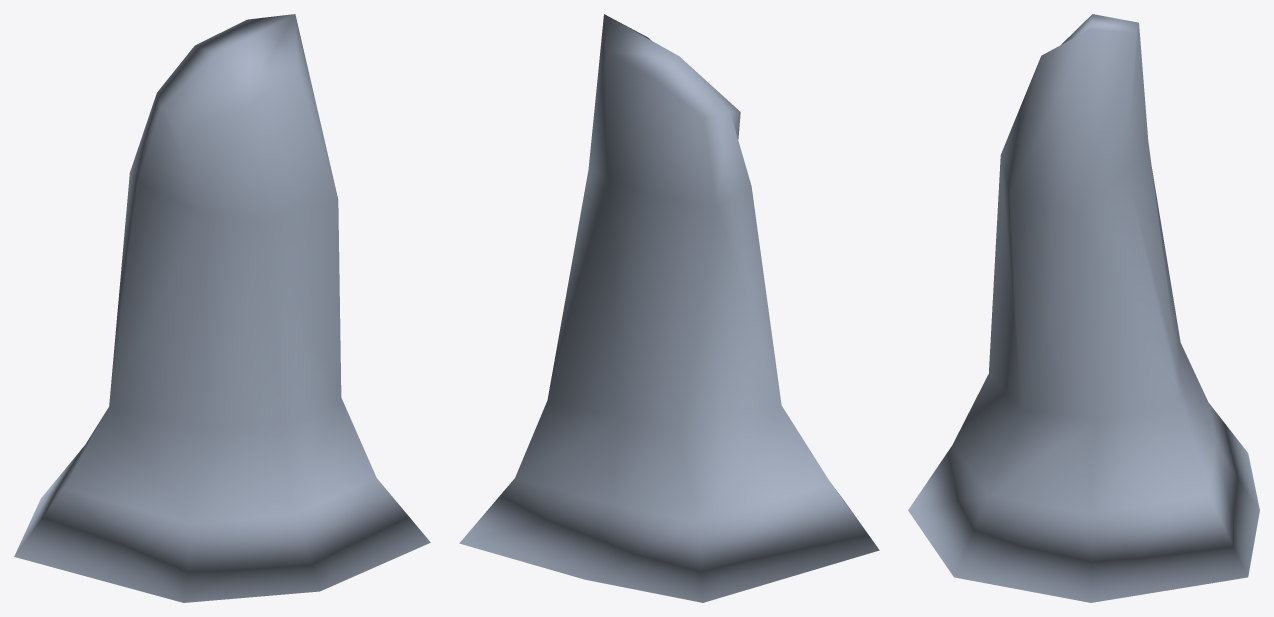
File: S_Stalagmite_03.fbx
The picture shows the model from 3 angles, left to right: view 1: azimuth 30°, elevation 25°; view 2: azimuth 150°, elevation 25°; view 3: azimuth 270°, elevation 25°; orthographic projection. The views are drawn at different scales.
Parts seen in each view (by area): view 1: S_Stalagmite_03; view 2: S_Stalagmite_03; view 3: S_Stalagmite_03.
Boxes of the visible parts, x1,y1,x2,y2 form: S_Stalagmite_03: [14, 14, 430, 602]; S_Stalagmite_03: [459, 14, 879, 602]; S_Stalagmite_03: [908, 14, 1259, 602].
Bounding box in the file's own units: 106 × 143 × 86.19.
